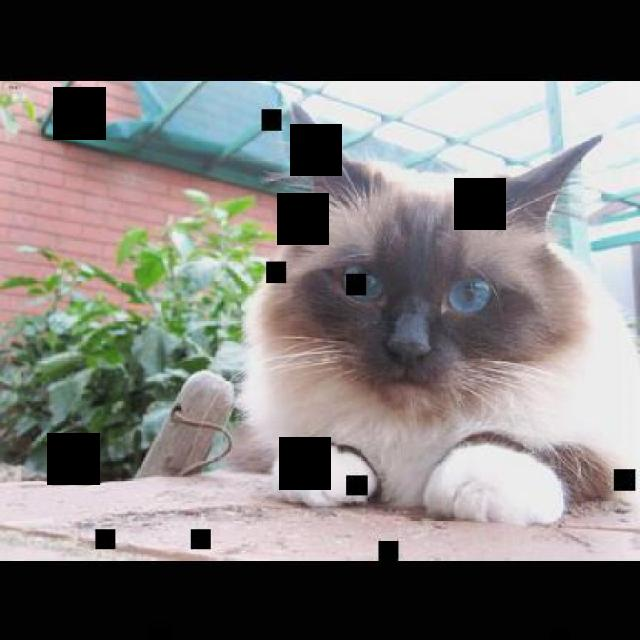unauthorized: (223, 99, 639, 526)
